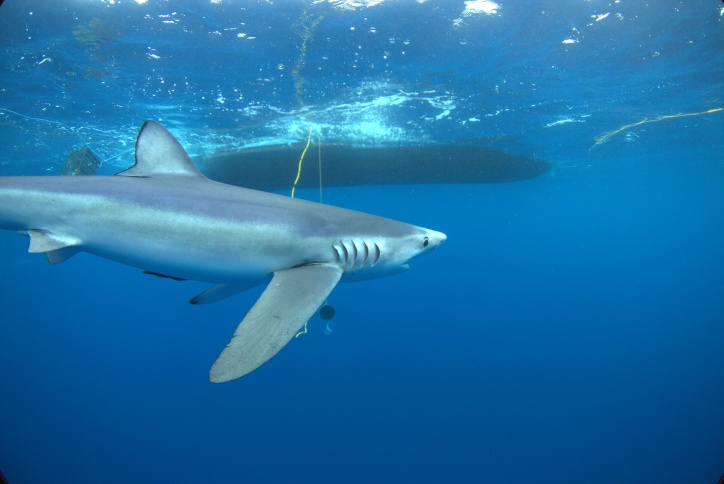Azul: (1, 105, 482, 398)
